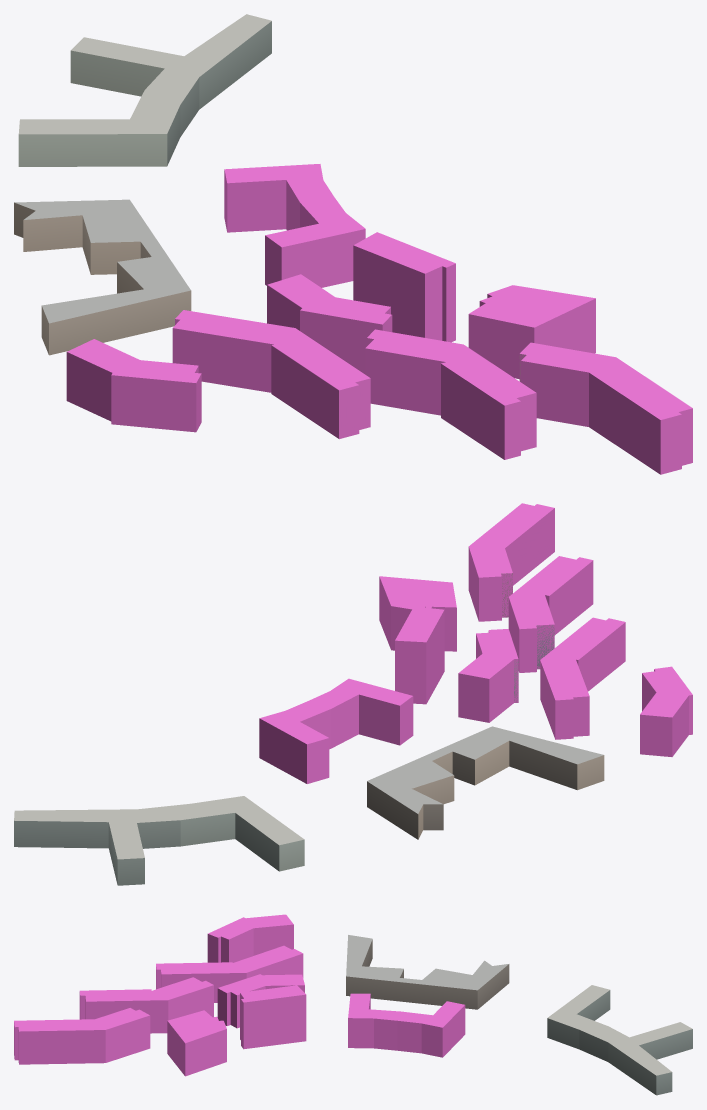
Rendered from bld_4_2.fbx.
3 renders of one model, top to bottom at view 1: azimuth 30°, elevation 25°; view 2: azimuth 150°, elevation 25°; view 3: azimuth 270°, elevation 25°, orthographic. The views are drawn at different scales.
Parts seen in each view (by area): view 1: bld_4_2_COL, bld_4_2_LOD0; view 2: bld_4_2_COL, bld_4_2_LOD0; view 3: bld_4_2_COL, bld_4_2_LOD0.
Boxes of the visible parts, x1,y1,x2,y2 form: bld_4_2_COL: [66, 164, 692, 474]; bld_4_2_LOD0: [14, 14, 525, 381]; bld_4_2_COL: [259, 503, 692, 783]; bld_4_2_LOD0: [14, 573, 604, 885]; bld_4_2_COL: [14, 914, 465, 1076]; bld_4_2_LOD0: [346, 935, 692, 1095].
Size of what is drawn, in the model's own units: 328 by 47.26 by 623.
